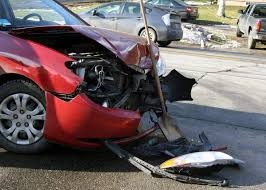Broken-glass: (77, 63, 121, 89)
Smashed: (36, 26, 174, 130)
